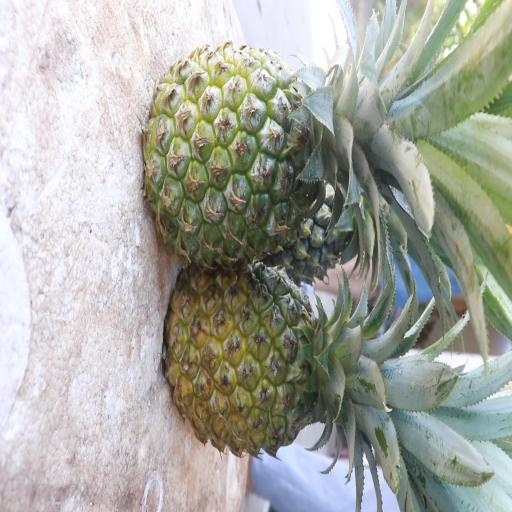------------------------------: (146, 37, 362, 261)
Pineapple - v8 v1: (168, 268, 370, 476)
